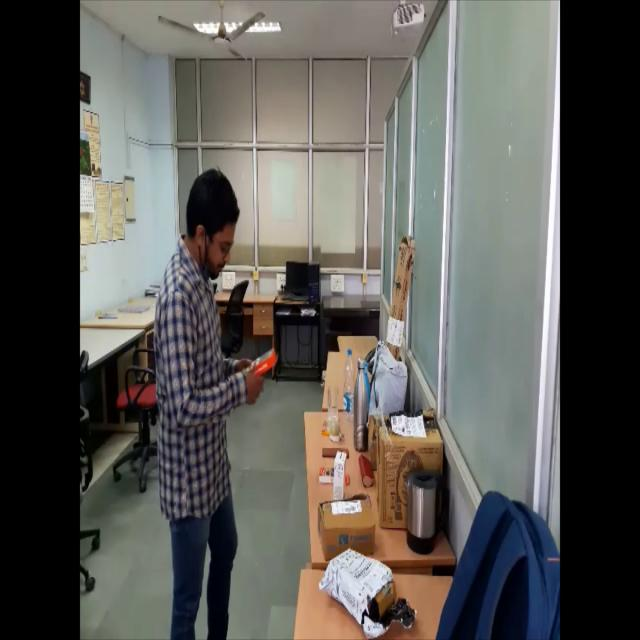normal: (153, 168, 279, 635)
